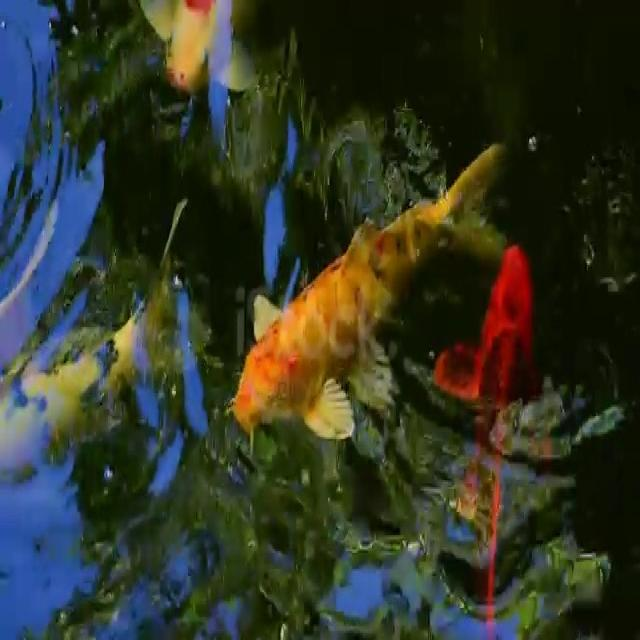fish: (225, 136, 515, 445), (0, 199, 202, 469), (441, 236, 566, 640), (134, 0, 273, 145)
